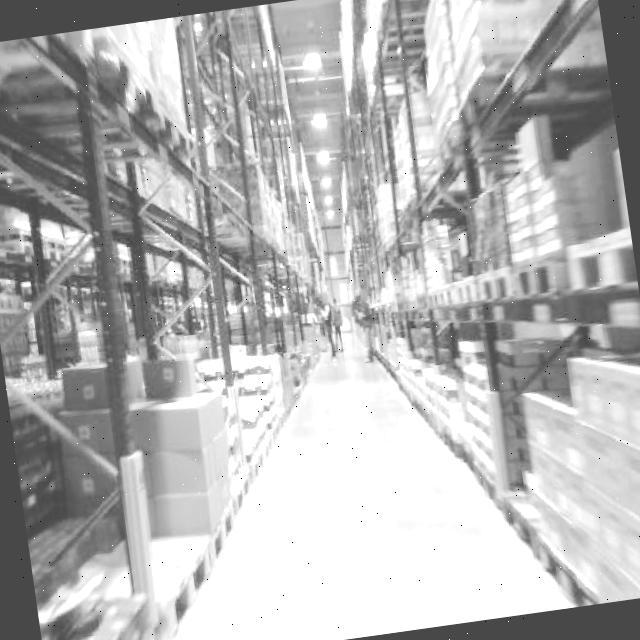ground: (90, 286, 604, 640)
pallet: (0, 2, 372, 640), (314, 0, 640, 630), (5, 328, 354, 640), (368, 268, 640, 629), (6, 358, 158, 640), (508, 345, 640, 610), (34, 554, 158, 640)
